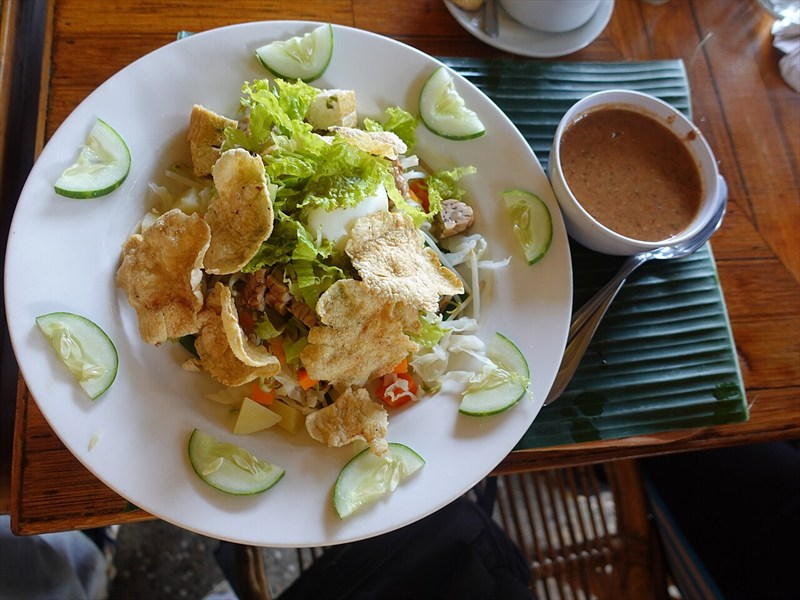Gado-Gado: (22, 39, 703, 526)
